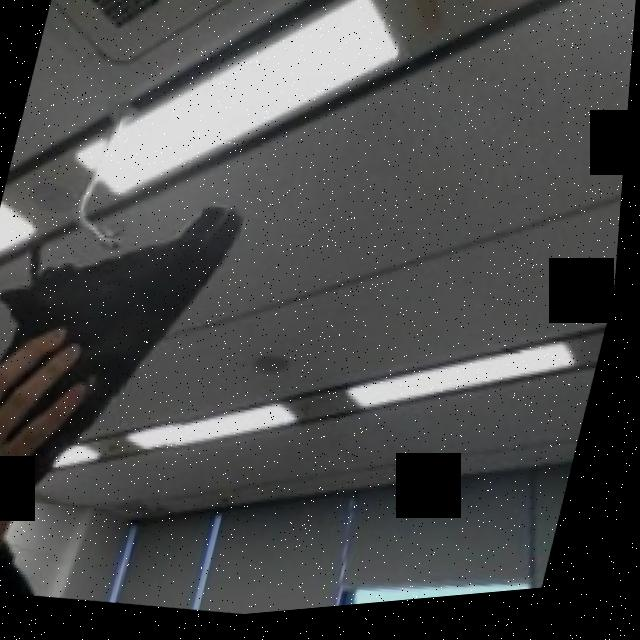shoe: (0, 167, 255, 533)
